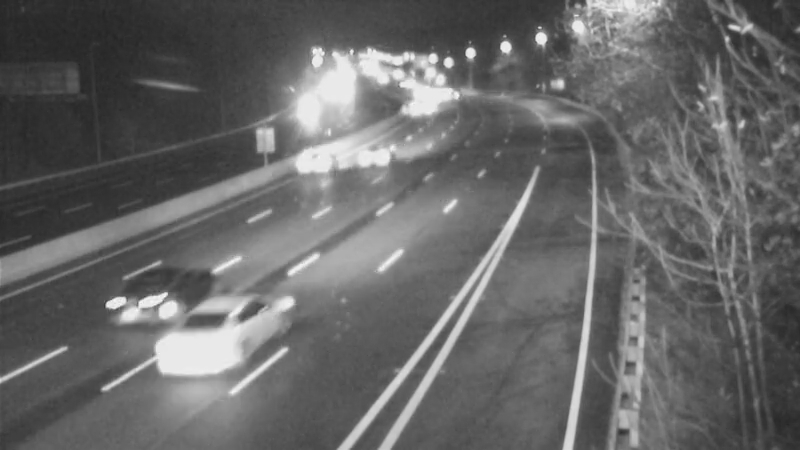vehicle: (100, 258, 210, 368), (147, 301, 257, 411), (335, 116, 415, 196), (283, 118, 363, 198), (398, 84, 448, 134), (279, 90, 329, 140)
